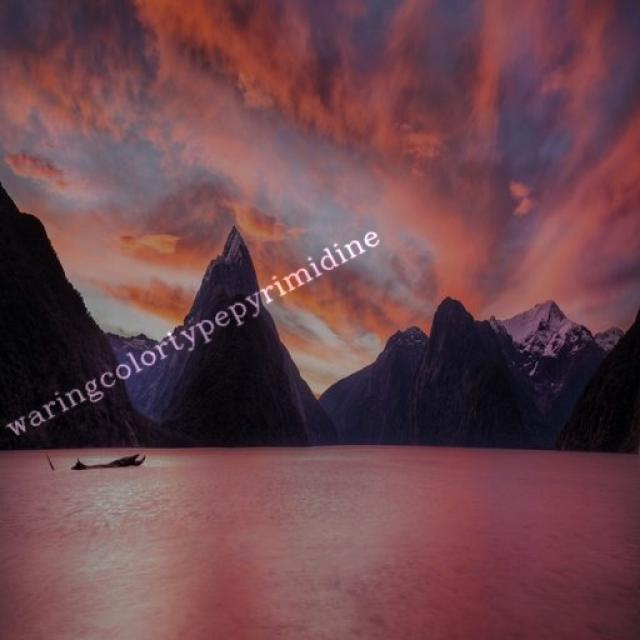watermark: (4, 218, 382, 442)
